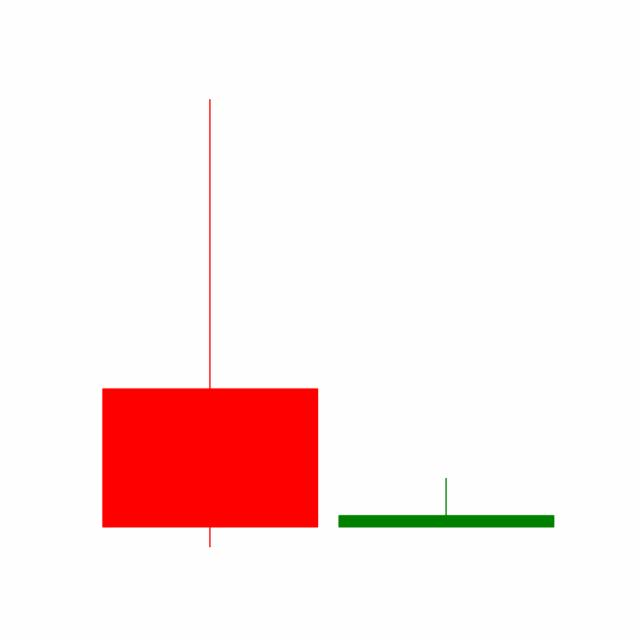Gravestone Doji: (327, 478, 565, 528)
